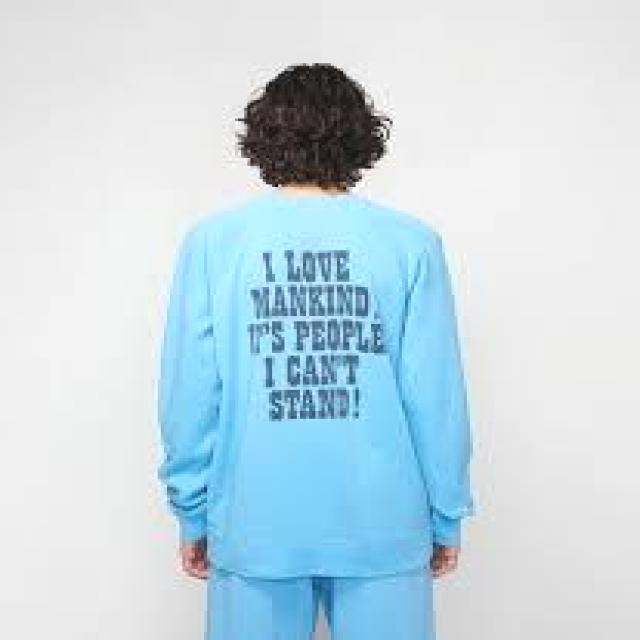sweater: (152, 186, 480, 584)
